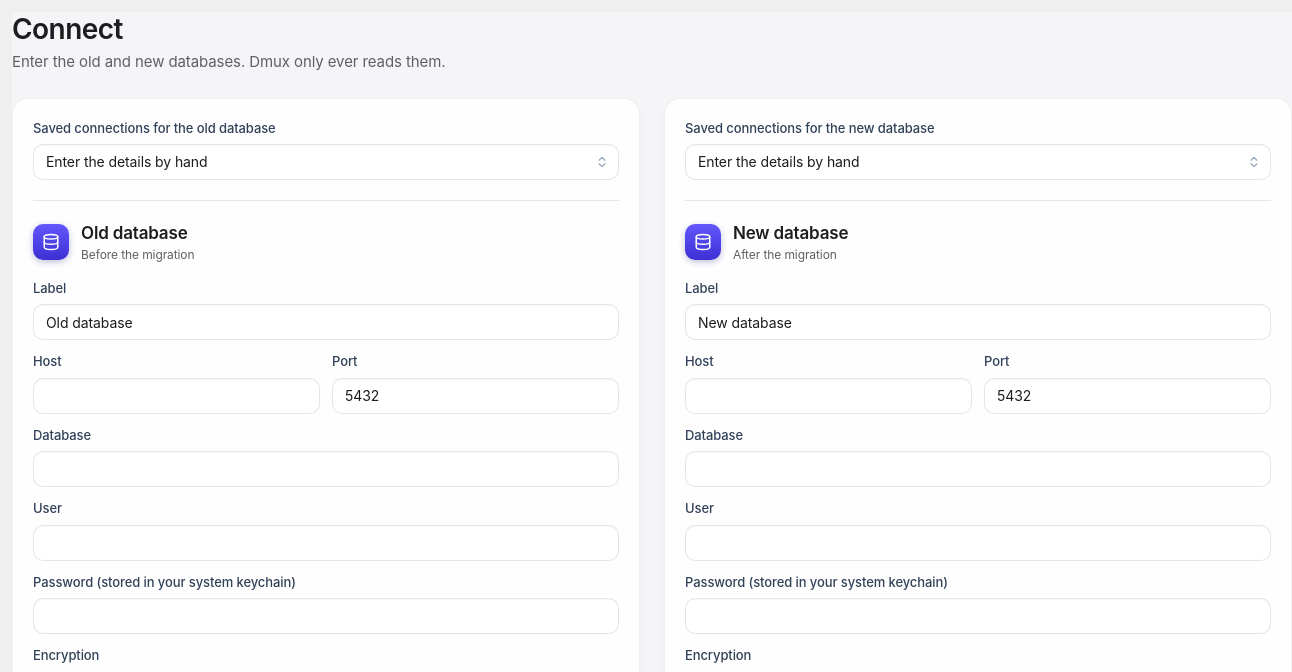
it: Connect screen: saved connections › fills the form from a saved connection and says a password is saved
This screenshot has width=1292, height=672.
Select "Production (reader@db.example.org:6543/bank)" in the dropdown with test id "Old database-saved-select" at (326, 162), box [33,144,619,180]
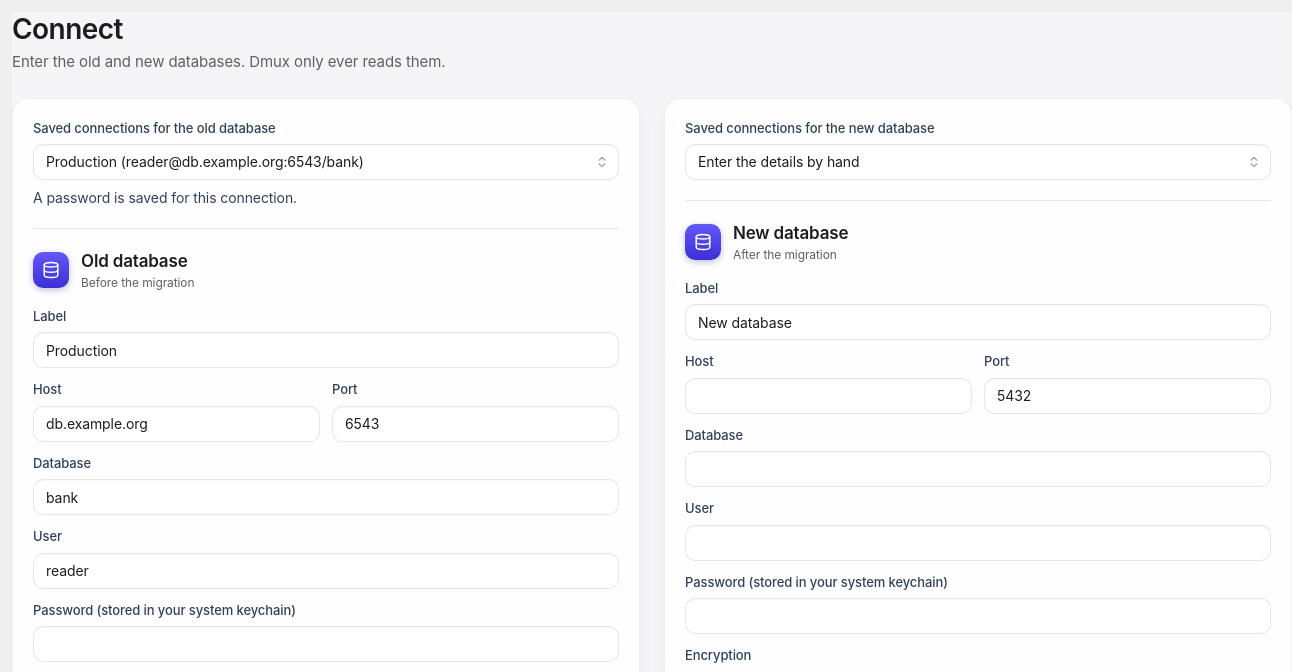
Expected: the password field with test id "Old database-password" is empty, [33,626,619,662]
Expected: the text "A password is saved for this connection." is shown, [33,189,297,206]
